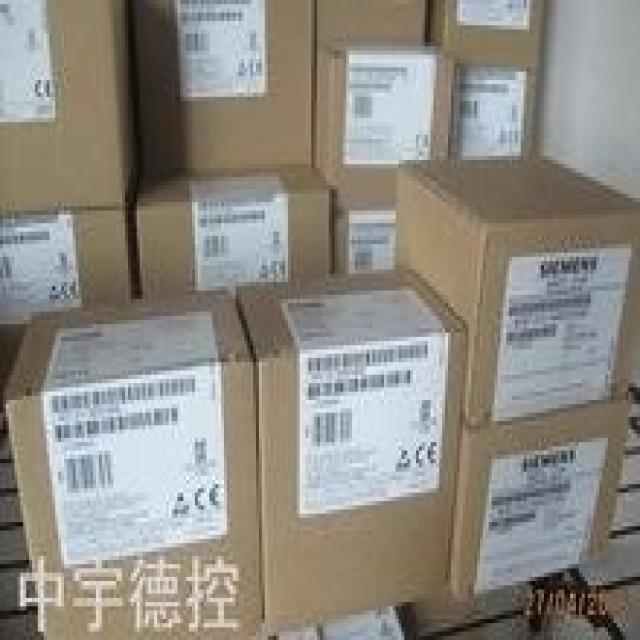box: (5, 288, 259, 636), (233, 263, 468, 634), (396, 152, 637, 426), (450, 397, 627, 597), (133, 3, 314, 178), (1, 183, 142, 401), (0, 0, 139, 219), (138, 166, 332, 294), (313, 45, 456, 197), (426, 1, 547, 69), (454, 71, 537, 158), (332, 189, 397, 273), (313, 2, 426, 43)
